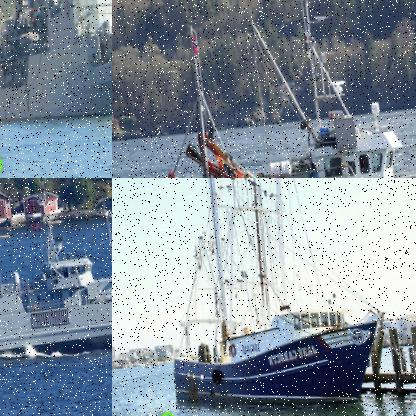Fishing Boat: (136, 178, 387, 415), (115, 0, 415, 177)
Military Ship: (0, 178, 111, 372), (0, 0, 111, 137)
